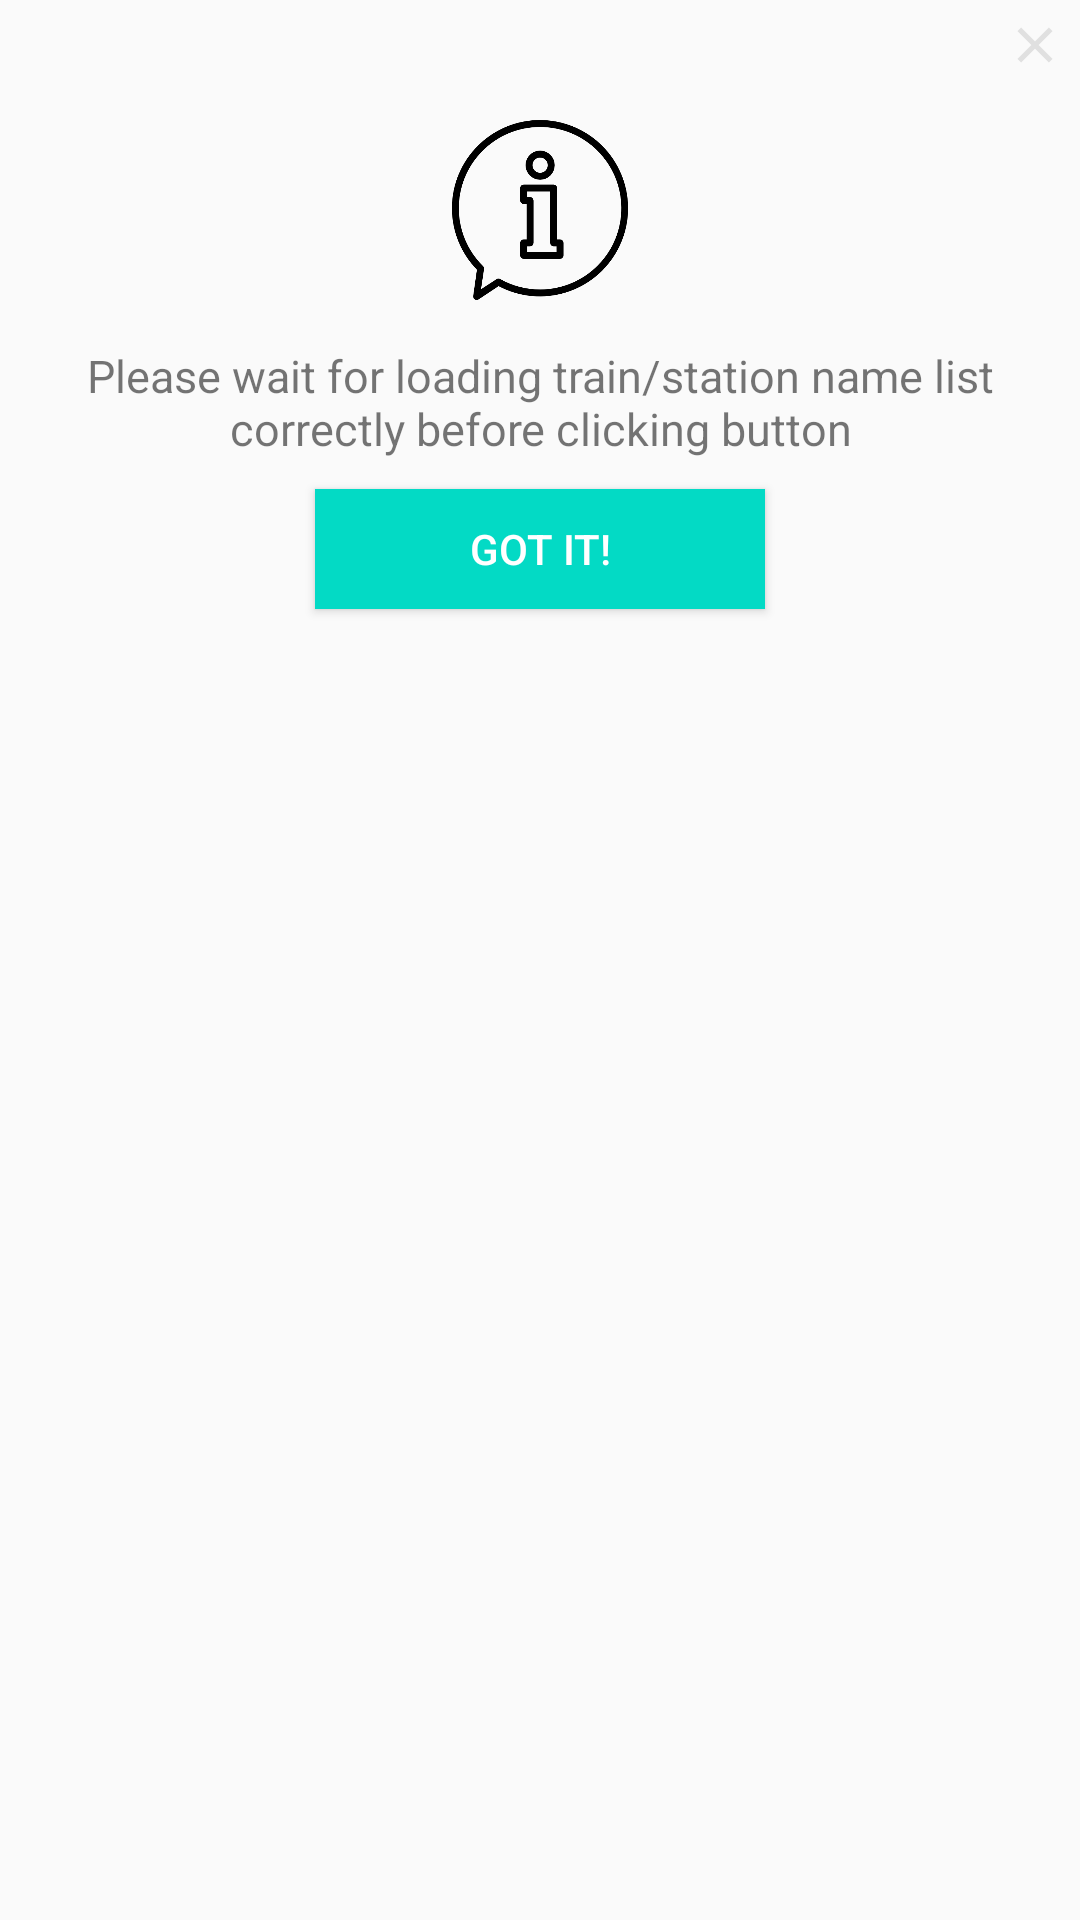

Where icons sit on this 1080x1920 app screen, as (x1, y1, x2, y2):
close: (1018, 29, 1052, 62)
